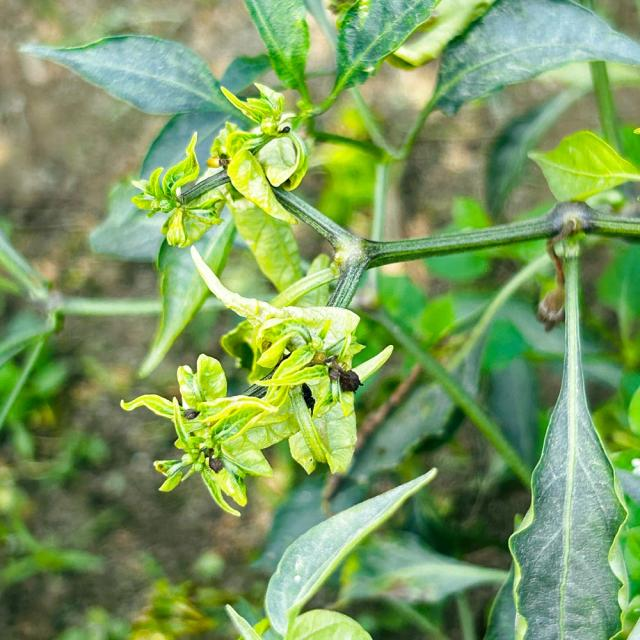Chilli_Leaf_Curl: (16, 0, 638, 638), (119, 245, 394, 517), (501, 229, 634, 638), (262, 466, 438, 637), (119, 352, 277, 517), (429, 0, 639, 117), (17, 32, 241, 118), (211, 81, 309, 225), (129, 130, 228, 248), (330, 0, 440, 93), (525, 128, 639, 204), (242, 0, 313, 106)
